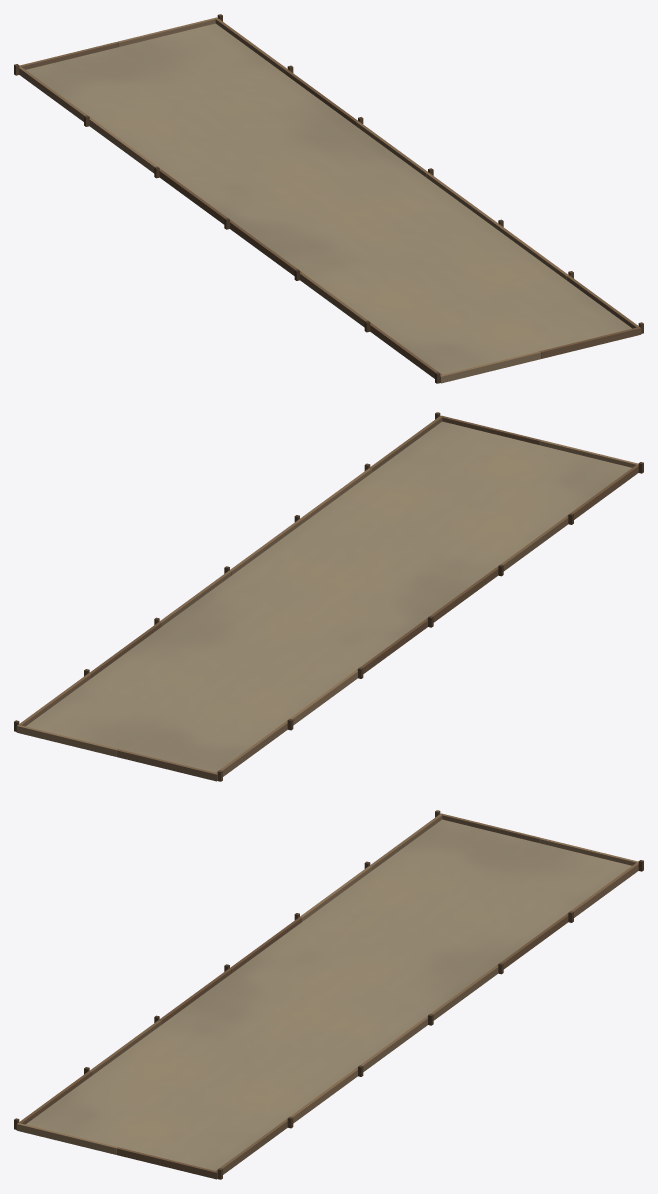
Rendered from court.glb.
3 views of the same model, one above another, from view 1: azimuth 30°, elevation 25°; view 2: azimuth 150°, elevation 25°; view 3: azimuth 330°, elevation 25° (orthographic).
Parts seen in each view (by area): view 1: court_gravel, court_boards; view 2: court_gravel, court_boards; view 3: court_gravel, court_boards.
Part boxes in pixels (<box>): court_gravel: <box>26,23,631,374</box>; court_boards: <box>14,14,643,383</box>; court_gravel: <box>26,421,631,772</box>; court_boards: <box>14,412,643,781</box>; court_gravel: <box>26,819,631,1170</box>; court_boards: <box>14,810,643,1179</box>.
Size of what is drawn, in the model's own units: 4.26 by 0.19 by 15.12.
